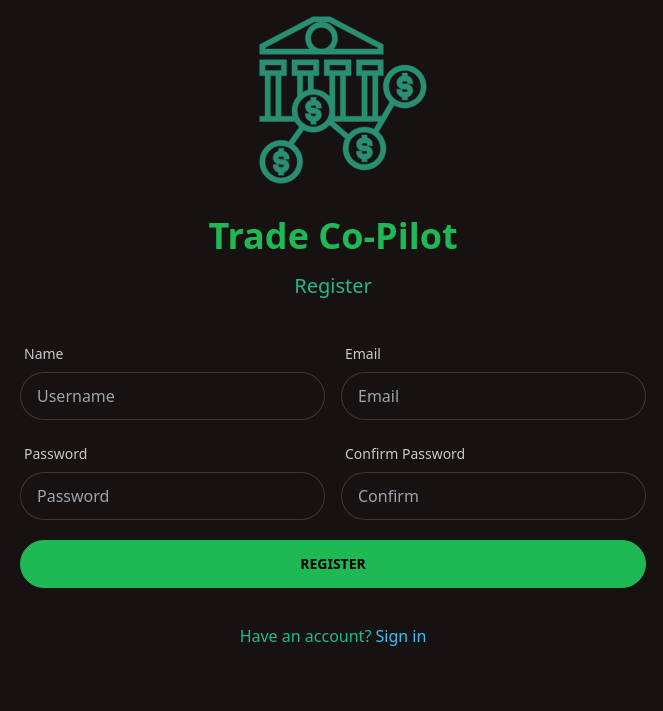
Register Page › shows validation errors when submitted empty
What coordinates should you click on to do the following:
click the button "Register"
I would click on:
 (333, 564)
Its box is [20, 540, 646, 588].
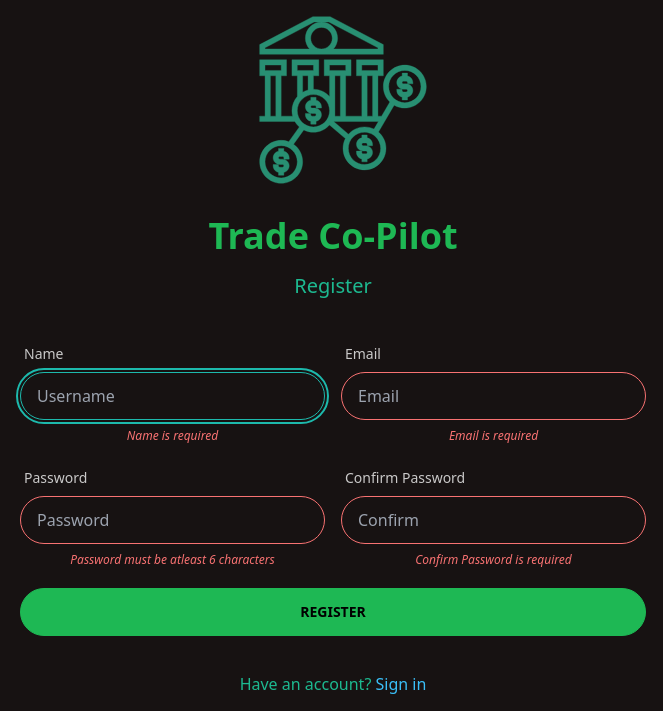
Now the text "Name is required" is shown, box [127, 427, 218, 444]
Now the text "Email is required" is shown, box [449, 427, 538, 444]
Now the text "Password must be atleast 6 characters" is shown, box [70, 551, 275, 568]
